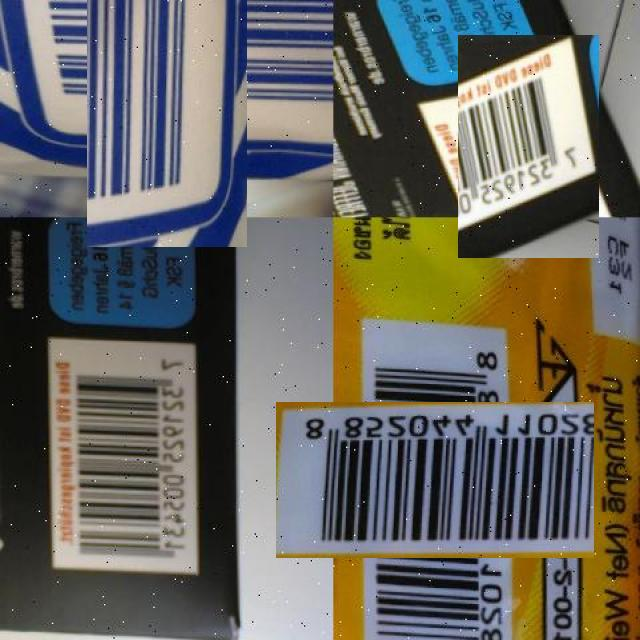Barcode: (317, 362, 554, 599), (44, 0, 291, 204), (47, 342, 196, 578), (437, 55, 619, 238)
